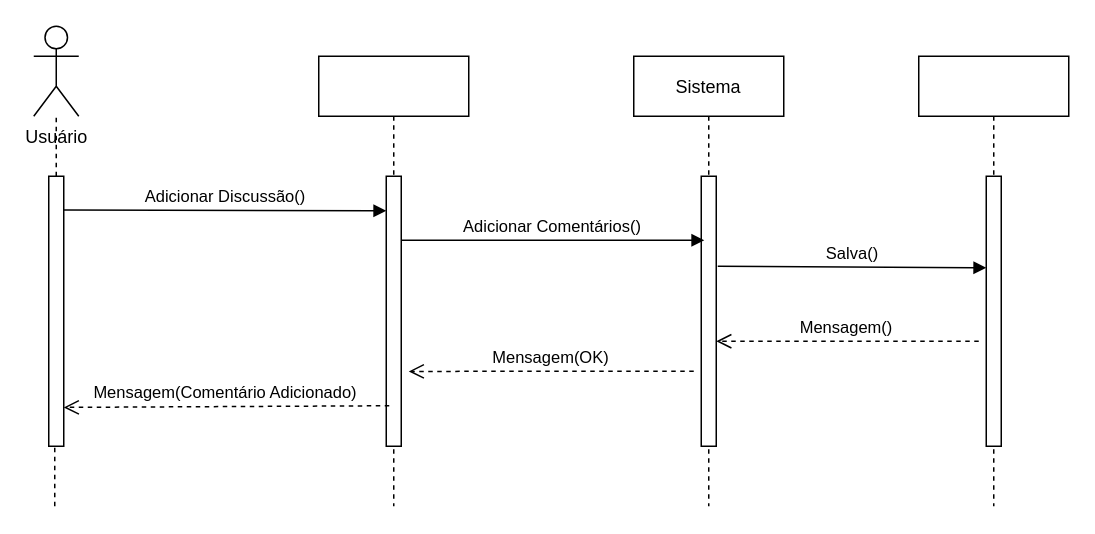
Some shapes in this 1095 by 534 pixel diagram are drawn without their labels. Here are the shapes that lost their labels. From the top down, the box of each, then its label:
(317, 55, 469, 506): Aplicação
(917, 55, 1069, 506): Banco de dados
